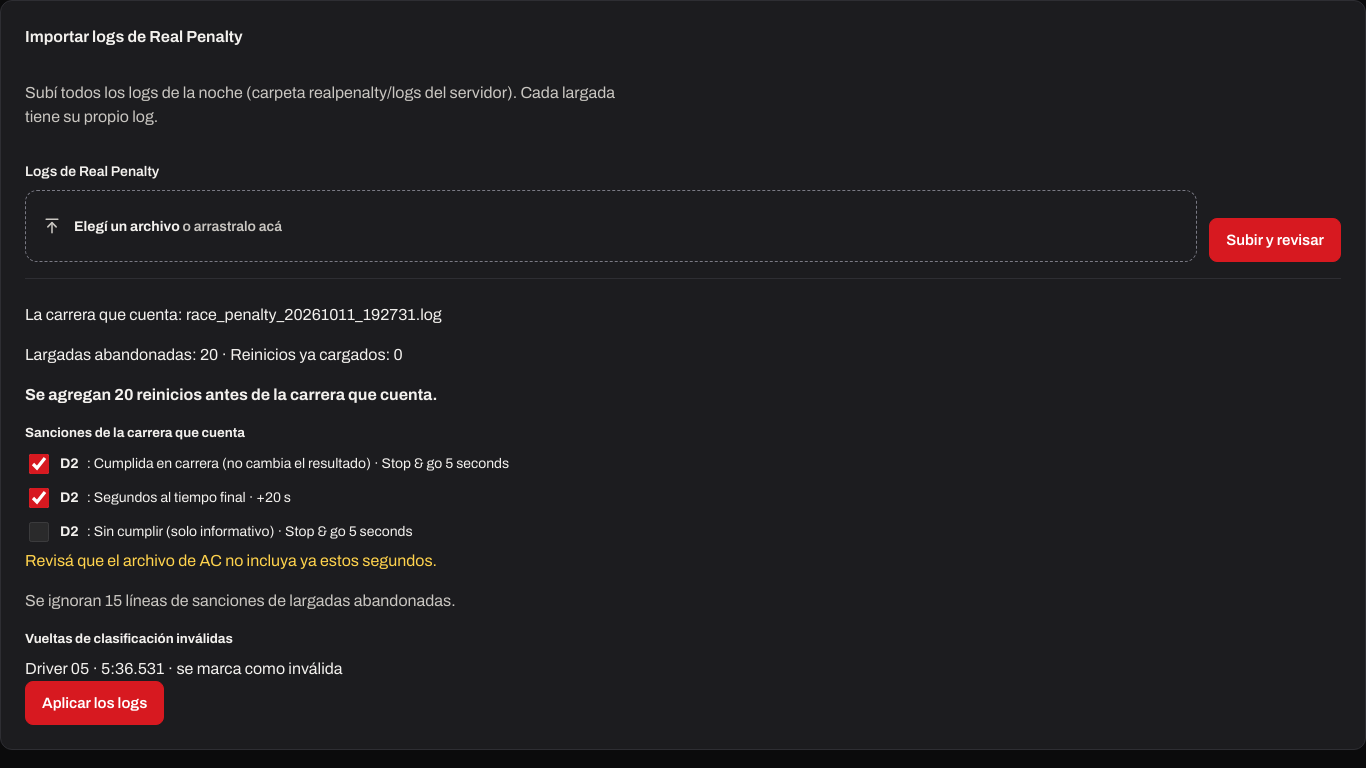
Scenario: PenaltyLogsSection › shows the new restarts, the penalties, and applies the chosen ones
The width and height of the screenshot is (1366, 768).
Check: the text "Se agregan 20 reinicios antes de la carrera que cuenta." is shown, box [25,386,437,403]
Check: the text "Se ignoran 15 líneas de sanciones de largadas abandonadas." is shown, box [25,592,456,609]
Click the checkbox labelled "D2 : Segundos al tiempo final · +20 s" at {"x": 39, "y": 498}, box [29,488,49,508]
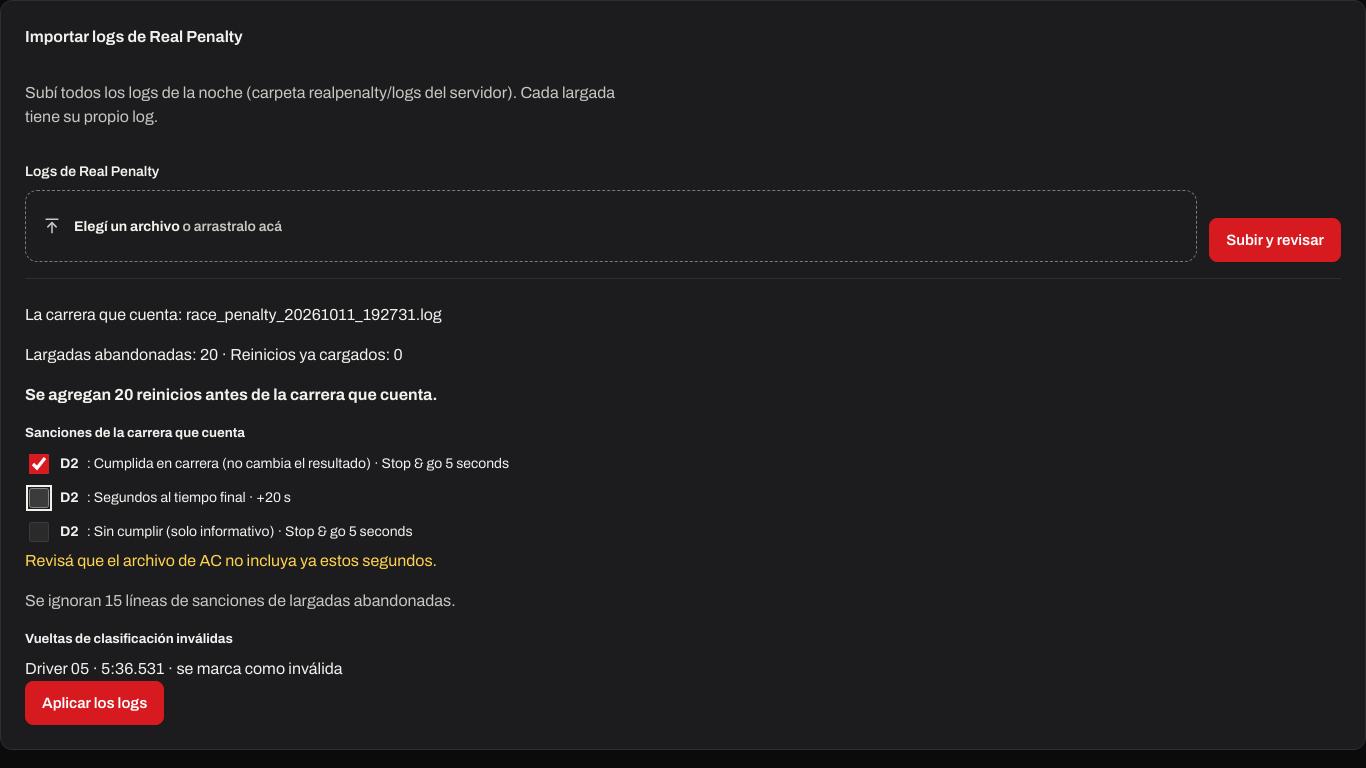
Click the button "Aplicar los logs" at {"x": 95, "y": 703}, box [25,681,164,725]
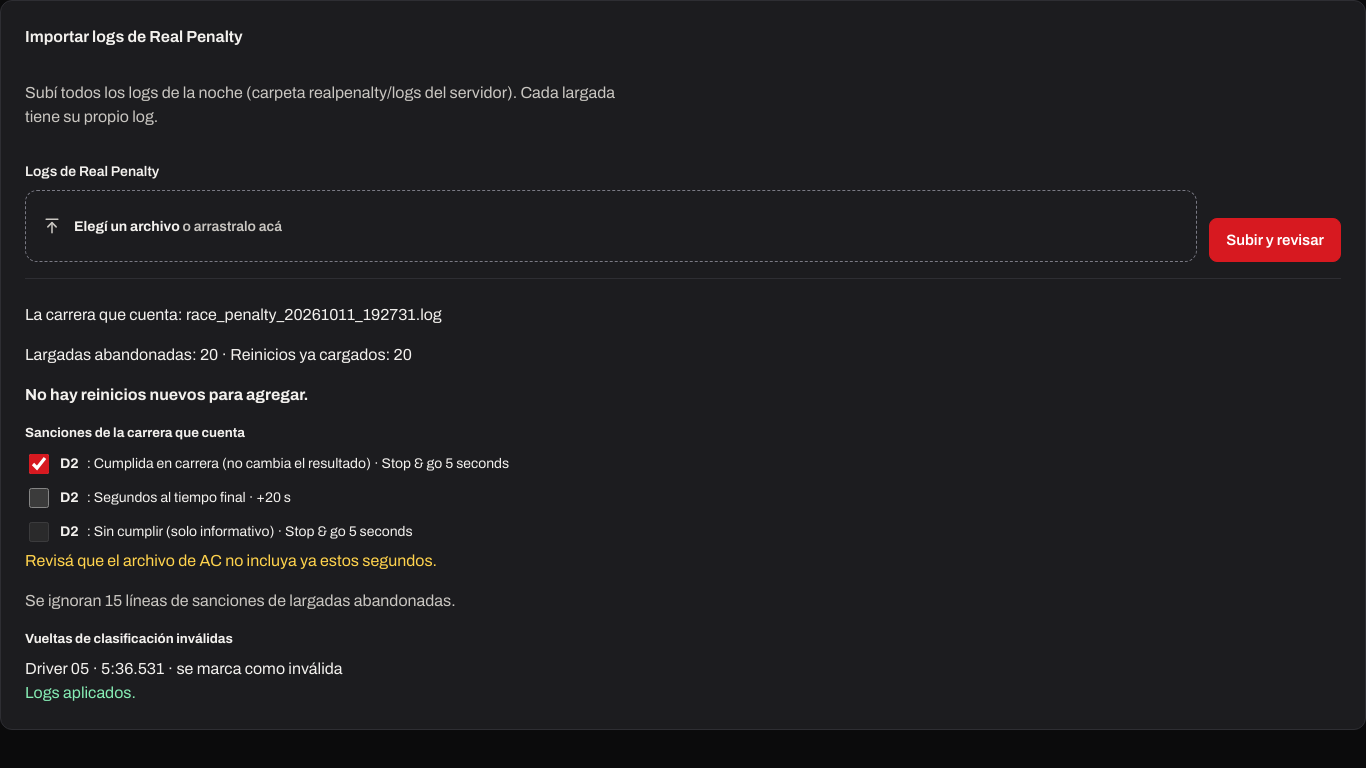
Check: the message reads "Logs aplicados.", box [25,684,136,701]
